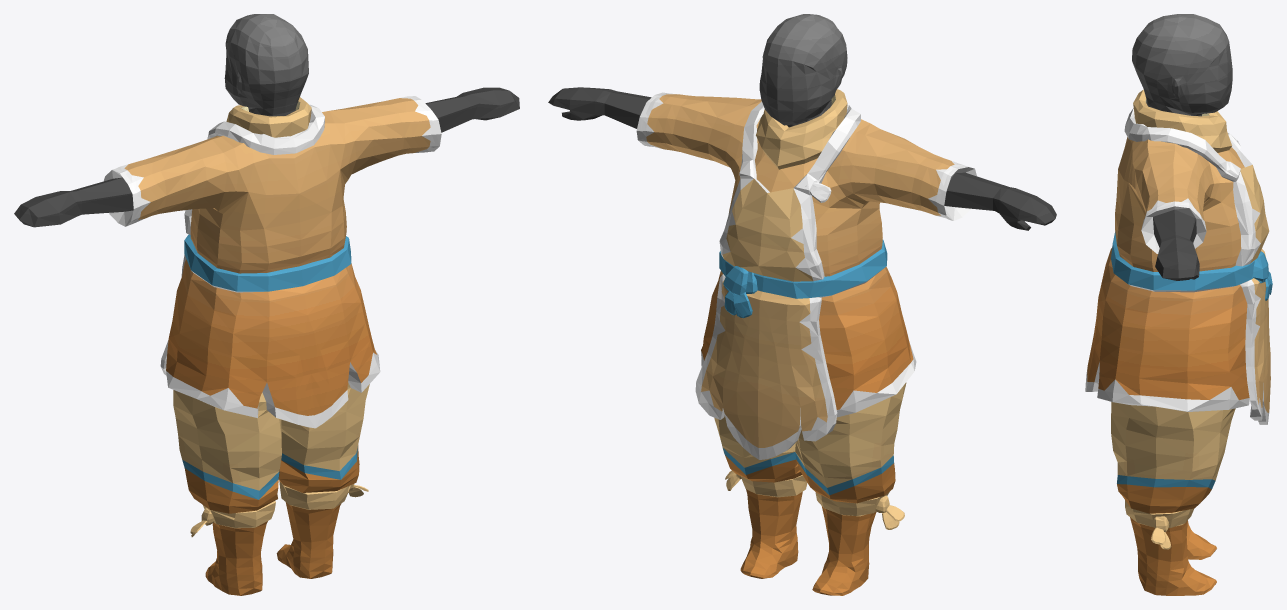
The model's file is CharSkyNPC_Body_AP12YellowTunic_01.glb.
The picture shows the model from 3 angles, left to right: view 1: azimuth 30°, elevation 25°; view 2: azimuth 150°, elevation 25°; view 3: azimuth 270°, elevation 25°; orthographic projection.
Visible parts, largest first — view 1: CharSkyNPC_Body_AP12YellowTunic_01; view 2: CharSkyNPC_Body_AP12YellowTunic_01; view 3: CharSkyNPC_Body_AP12YellowTunic_01.
Boxes of the visible parts, bbox=[...] form: CharSkyNPC_Body_AP12YellowTunic_01: bbox=[14, 14, 519, 595]; CharSkyNPC_Body_AP12YellowTunic_01: bbox=[548, 14, 1056, 595]; CharSkyNPC_Body_AP12YellowTunic_01: bbox=[1085, 14, 1272, 595].
Size of the model in its own units: 13.83 by 14.65 by 4.5.
Materials: 1 (1 with a texture image).
